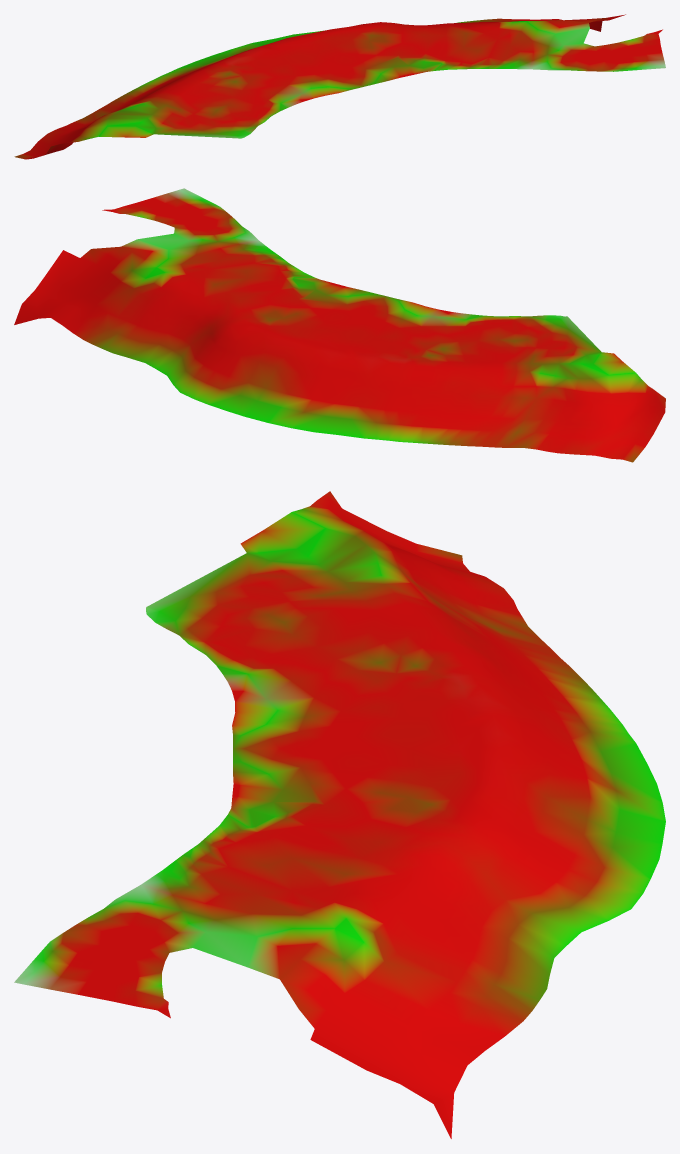
Rendered from pref_sm_beach_winter_sands_d_lv3.fbx.
3 views of the same model, one above another, from view 1: azimuth 30°, elevation 25°; view 2: azimuth 150°, elevation 25°; view 3: azimuth 270°, elevation 25° (orthographic). The views are drawn at different scales.
Visible parts, largest first — view 1: pref_sm_beach_winter_sands_d_lv3; view 2: pref_sm_beach_winter_sands_d_lv3; view 3: pref_sm_beach_winter_sands_d_lv3.
Boxes of the visible parts, x1,y1,x2,y2 form: pref_sm_beach_winter_sands_d_lv3: (14, 14, 665, 159); pref_sm_beach_winter_sands_d_lv3: (14, 188, 665, 462); pref_sm_beach_winter_sands_d_lv3: (14, 491, 665, 1138).
Bounding box in the file's own units: 60.89 × 5.84 × 30.27.
